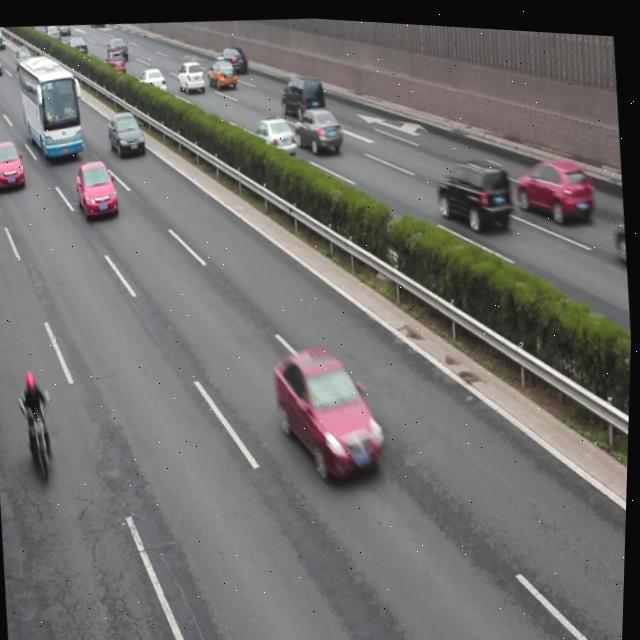car: (271, 338, 388, 484), (434, 148, 516, 231), (513, 146, 598, 223), (73, 157, 120, 221), (292, 100, 345, 155), (251, 112, 298, 157), (106, 111, 147, 160), (0, 138, 28, 192), (206, 54, 238, 89), (175, 56, 206, 92), (217, 41, 247, 72), (140, 64, 167, 93), (104, 45, 127, 73), (106, 34, 128, 60), (65, 31, 86, 55)
truck: (279, 69, 326, 119)
van: (15, 49, 87, 164)
